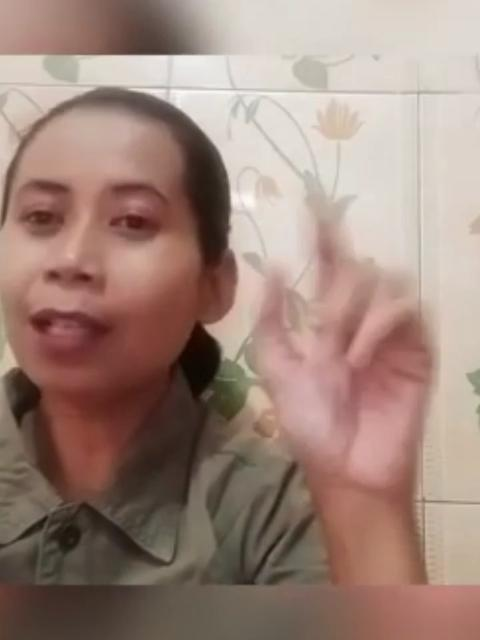Z: (241, 171, 451, 509)
